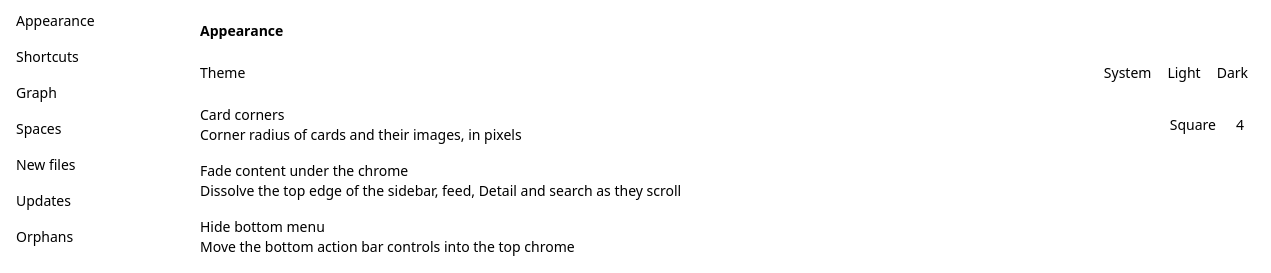
it: SettingsApp › switches sections and moves the active row
The image size is (1271, 273).
Step 1. Click the button "Spaces" → (88, 129), box [8, 113, 168, 145]
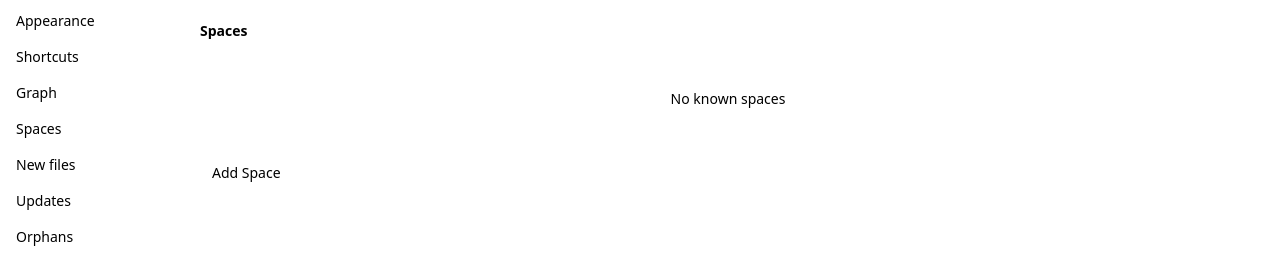
Expected: the heading "Spaces" is shown, [200, 21, 248, 40]
Step 2. Click the button "Graph" → (88, 93), box [8, 77, 168, 109]
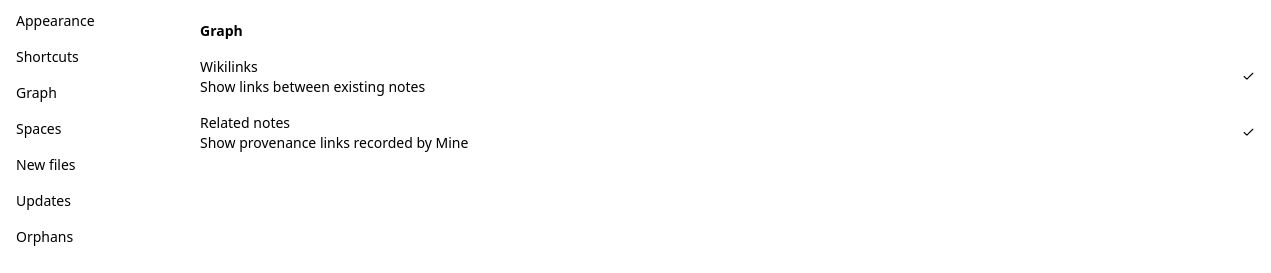
Expected: the heading "Graph" is shown, [200, 21, 243, 40]
Step 3. Click the button "Orphans" → (88, 237), box [8, 221, 168, 253]
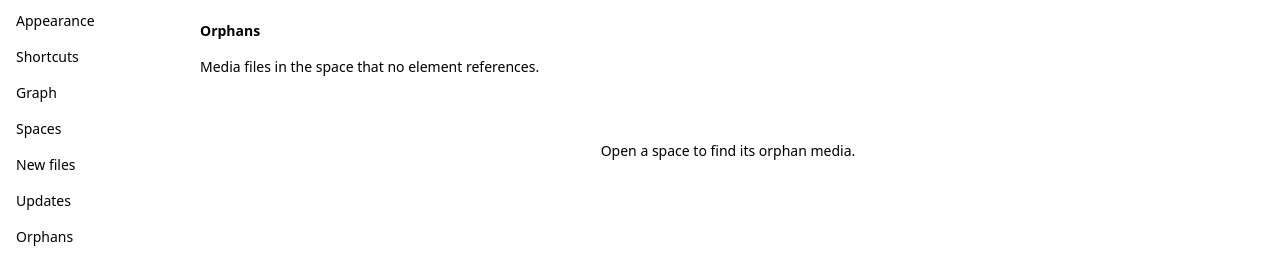
Expected: the heading "Orphans" is shown, [200, 21, 260, 40]
